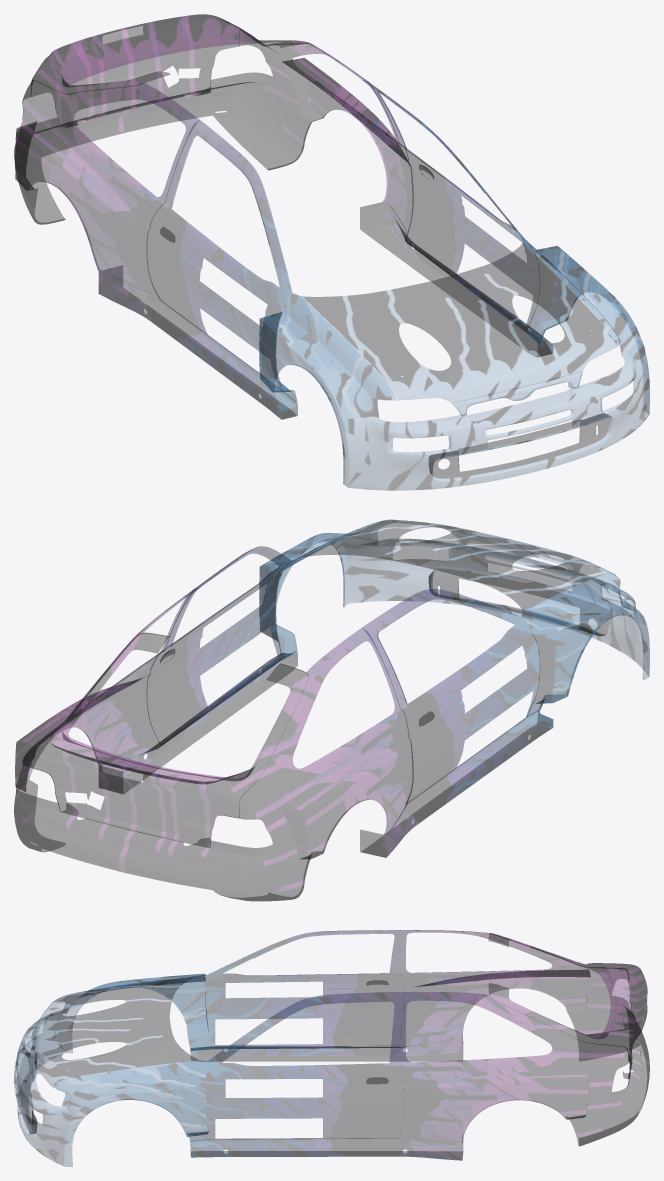
File: TexturedDetails_Geo_lodA.glb
The picture shows the model from 3 angles, top to bottom: view 1: azimuth 30°, elevation 25°; view 2: azimuth 150°, elevation 25°; view 3: azimuth 270°, elevation 25°; orthographic projection. The views are drawn at different scales.
Visible parts, largest first — view 1: TexturedDetails_Geo_lodA; view 2: TexturedDetails_Geo_lodA; view 3: TexturedDetails_Geo_lodA.
Part boxes in pixels (box(x1,y1,x2,y2)): TexturedDetails_Geo_lodA: box(14, 14, 649, 490); TexturedDetails_Geo_lodA: box(14, 519, 649, 901); TexturedDetails_Geo_lodA: box(14, 930, 649, 1166).
Bounding box in the file's own units: 1.75 × 1.06 × 4.1.
Materials: 1 (1 with a texture image).
